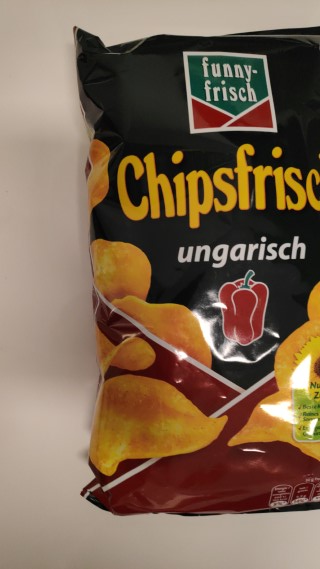chipsfrisch: (71, 24, 320, 520)
